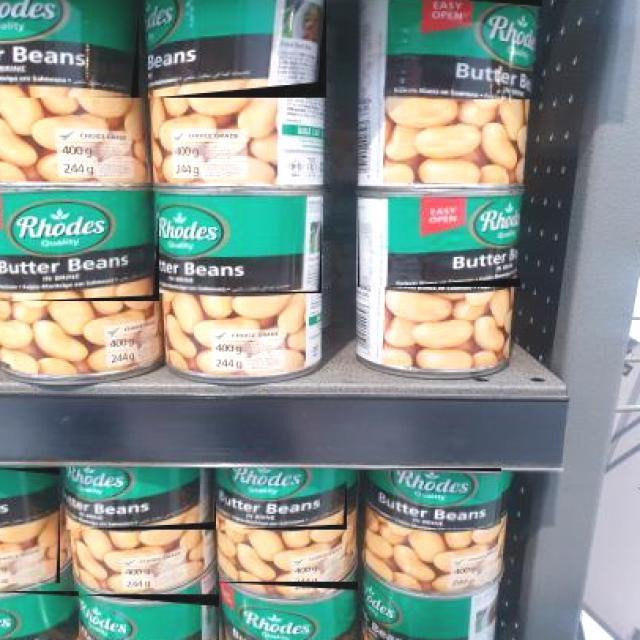Beans: (0, 190, 161, 302), (366, 0, 544, 101), (148, 0, 327, 99), (156, 197, 323, 295), (358, 202, 522, 288), (0, 0, 140, 99), (63, 469, 218, 532), (212, 581, 359, 640), (214, 468, 348, 531), (367, 581, 505, 640), (377, 469, 503, 532), (0, 468, 61, 584), (80, 594, 221, 640), (0, 591, 80, 640)
